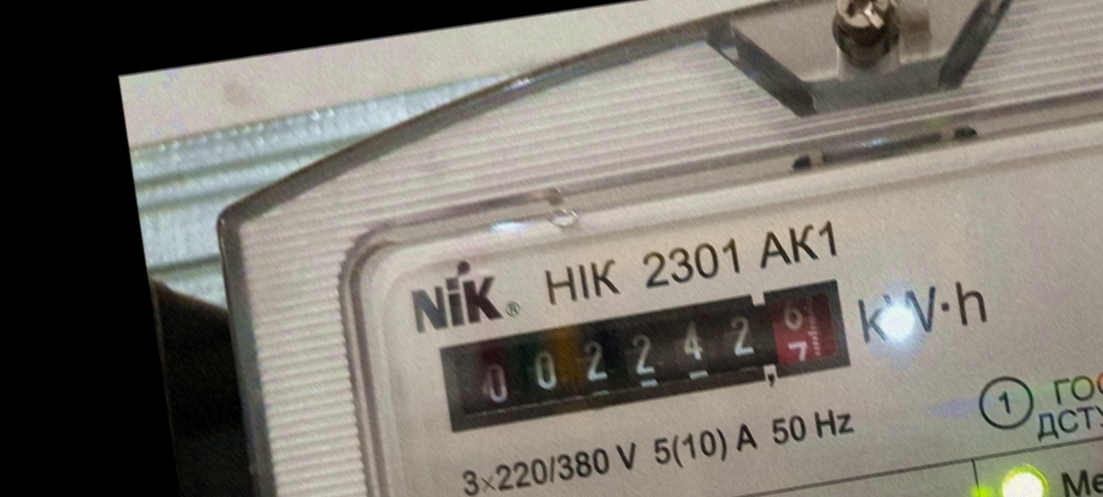0: (531, 344, 562, 389), (582, 335, 612, 380), (484, 356, 512, 403)
2: (727, 309, 758, 356), (630, 328, 660, 375)
4: (679, 315, 708, 361)
6: (780, 294, 809, 330)
7: (787, 336, 813, 361)
screen: (428, 263, 872, 446)
